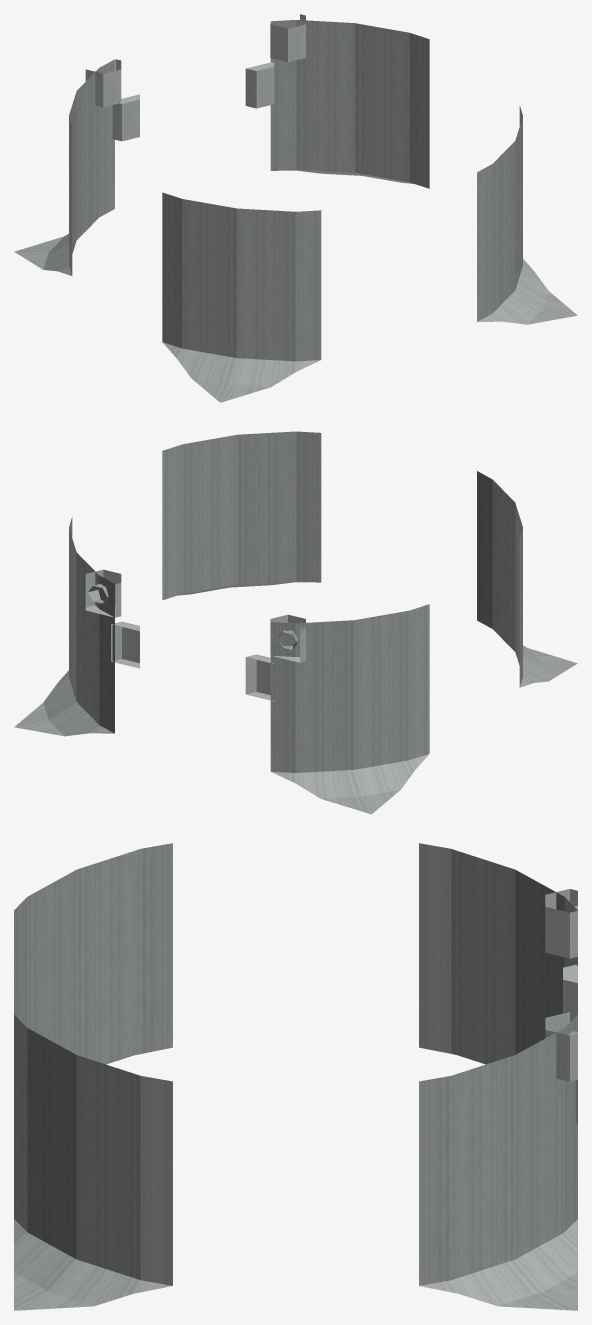
File: cell_87.obj
3 views of the same model, one above another, from view 1: azimuth 30°, elevation 25°; view 2: azimuth 150°, elevation 25°; view 3: azimuth 270°, elevation 25° (orthographic). The views are drawn at different scales.
Bounding box in the file's own units: 1 × 0.4487 × 1.
